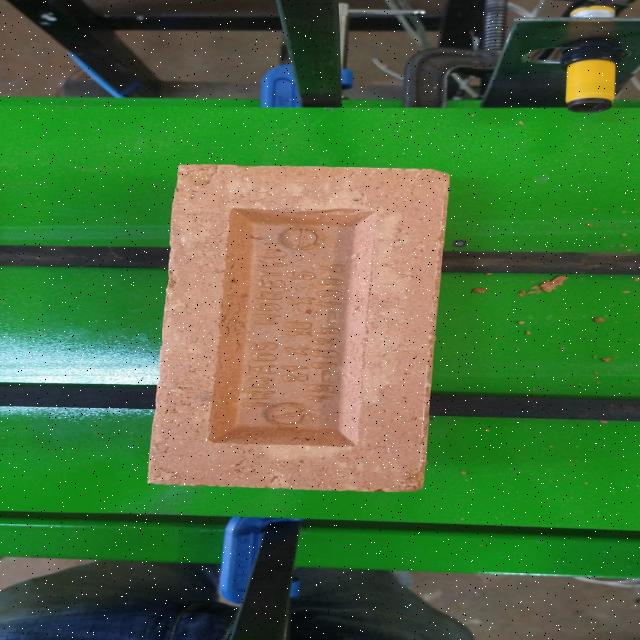bricks: (144, 162, 447, 491)
